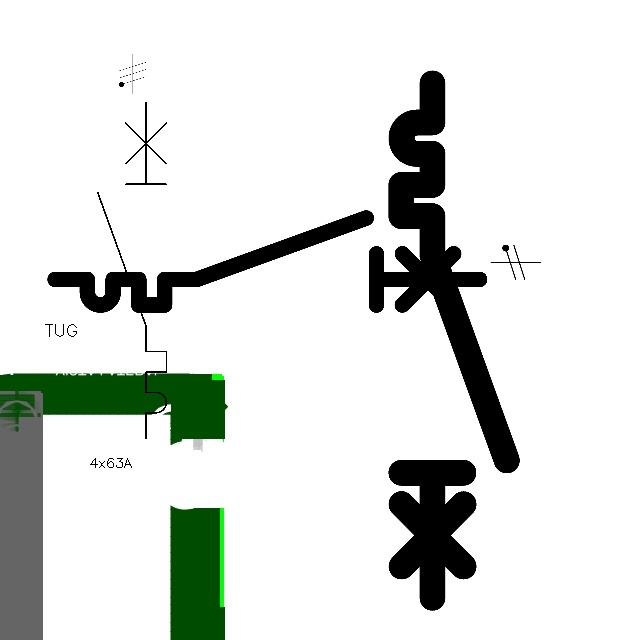interruptor_termomagnetico: (388, 70, 520, 611), (44, 207, 491, 316), (89, 93, 175, 446)
